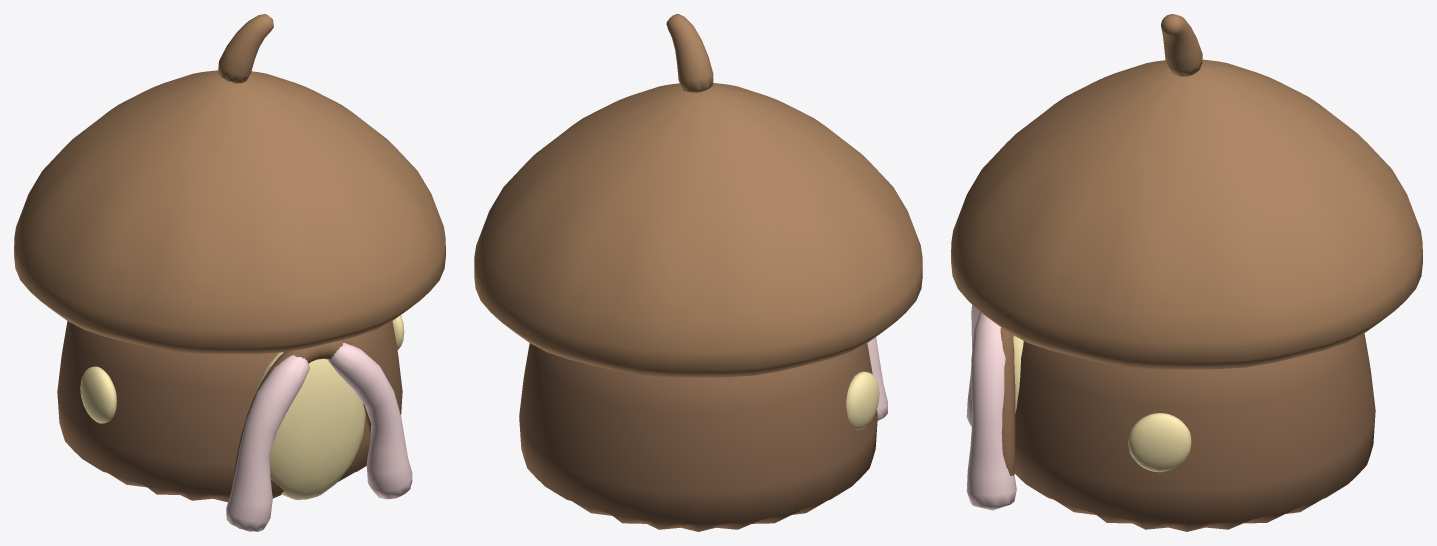
Rendered from SM_Forest_AcornCottage.fbx.
3 renders of one model, left to right at view 1: azimuth 30°, elevation 25°; view 2: azimuth 150°, elevation 25°; view 3: azimuth 270°, elevation 25°, orthographic. The views are drawn at different scales.
Parts seen in each view (by area): view 1: SM_Forest_AcornCottage; view 2: SM_Forest_AcornCottage; view 3: SM_Forest_AcornCottage.
Part boxes in pixels (<box>): SM_Forest_AcornCottage: <box>14,14,445,531</box>; SM_Forest_AcornCottage: <box>474,14,922,531</box>; SM_Forest_AcornCottage: <box>951,14,1422,531</box>.
Size of the model in its own units: 438 by 490 by 438.
